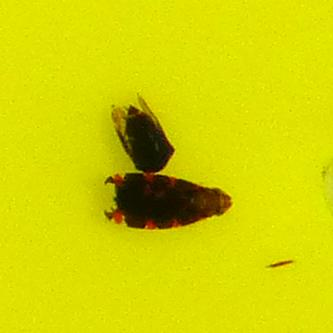Hemiptera: (100, 169, 233, 233), (117, 100, 175, 172)
